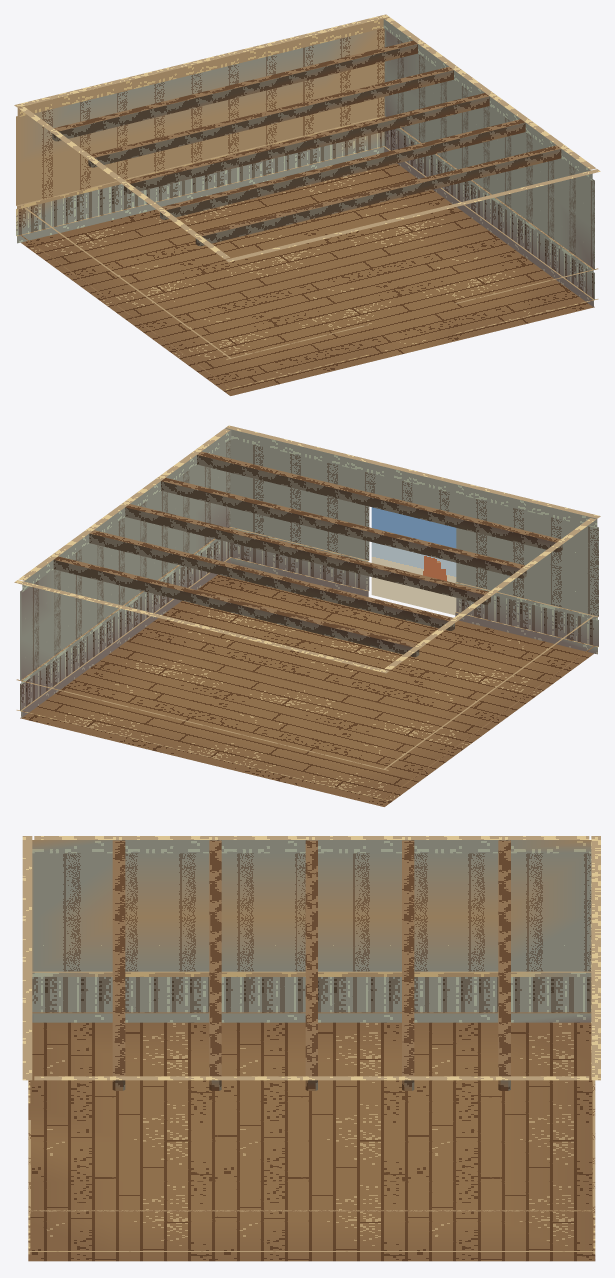
The model's file is wtown.room.glb.
3 views of the same model, one above another, from view 1: azimuth 30°, elevation 25°; view 2: azimuth 150°, elevation 25°; view 3: azimuth 270°, elevation 25° (orthographic). The views are drawn at different scales.
Parts seen in each view (by area): view 1: kit_shell_floor, kit_shell_walls, kit_beams; view 2: kit_shell_floor, kit_shell_walls, kit_beams, kit_card_door_views; view 3: kit_shell_floor, kit_shell_walls, kit_beams.
Boxes of the visible parts, left/top/right/bottom form: kit_shell_floor: left=21, top=163, right=594, bottom=395; kit_shell_walls: left=14, top=14, right=600, bottom=389; kit_beams: left=52, top=40, right=561, bottom=246; kit_shell_floor: left=20, top=574, right=593, bottom=806; kit_shell_walls: left=14, top=425, right=600, bottom=800; kit_beams: left=53, top=451, right=562, bottom=657; kit_card_door_views: left=371, top=507, right=456, bottom=615; kit_shell_floor: left=28, top=1022, right=595, bottom=1261; kit_shell_walls: left=22, top=836, right=600, bottom=1254; kit_beams: left=112, top=840, right=510, bottom=1090.
Size of the model in its own units: 12 by 4.25 by 12.18.
7 materials, 7 textured.
